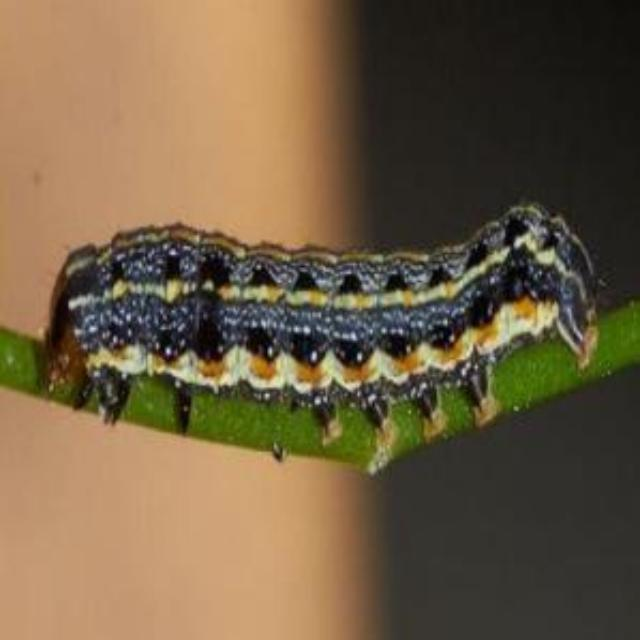Tobacco cutworm: (30, 128, 634, 518)
